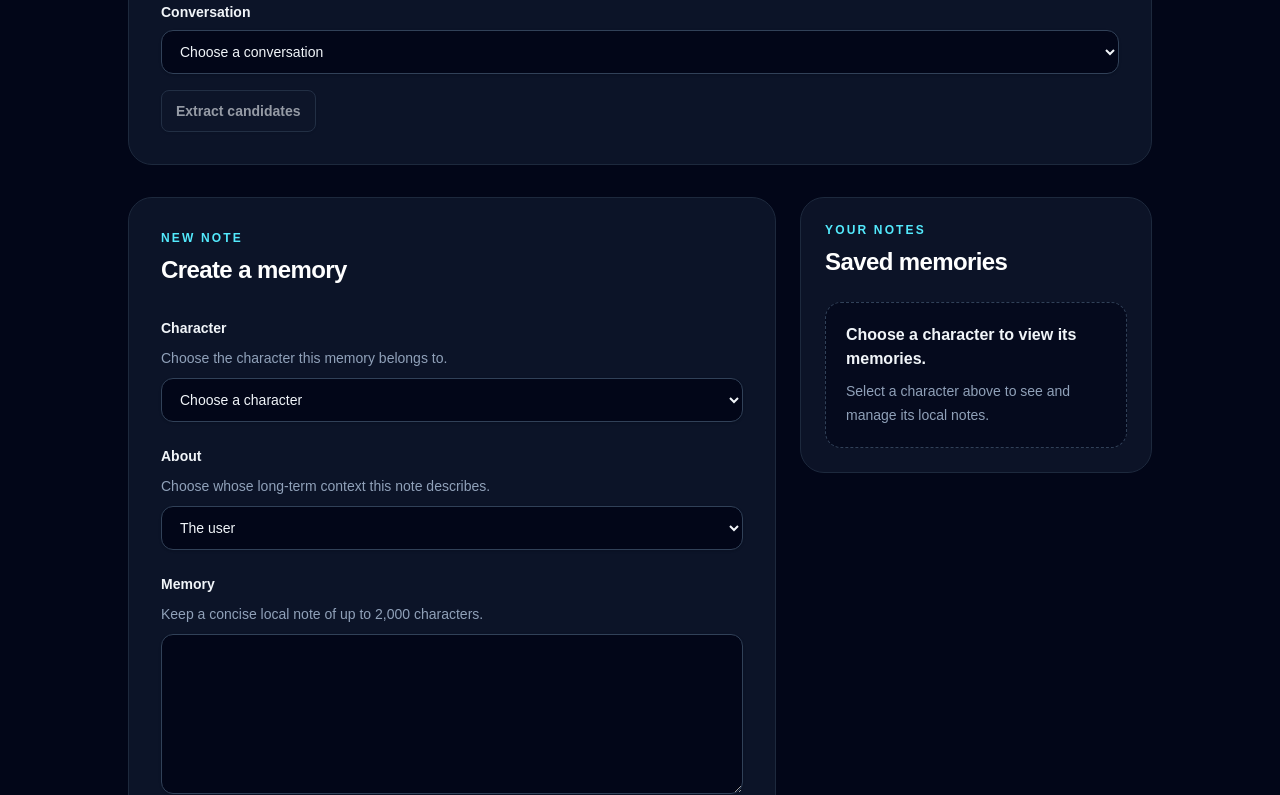
MemoryManagementScreen › does not persist extracted candidates until the user explicitly selects and saves one
(page scrolled)
Check: the heading "Create a memory" is shown, box [161,254,347,286]
Select "Astra" in the dropdown labelled "Character" at (452, 400), box [161,378,743,422]
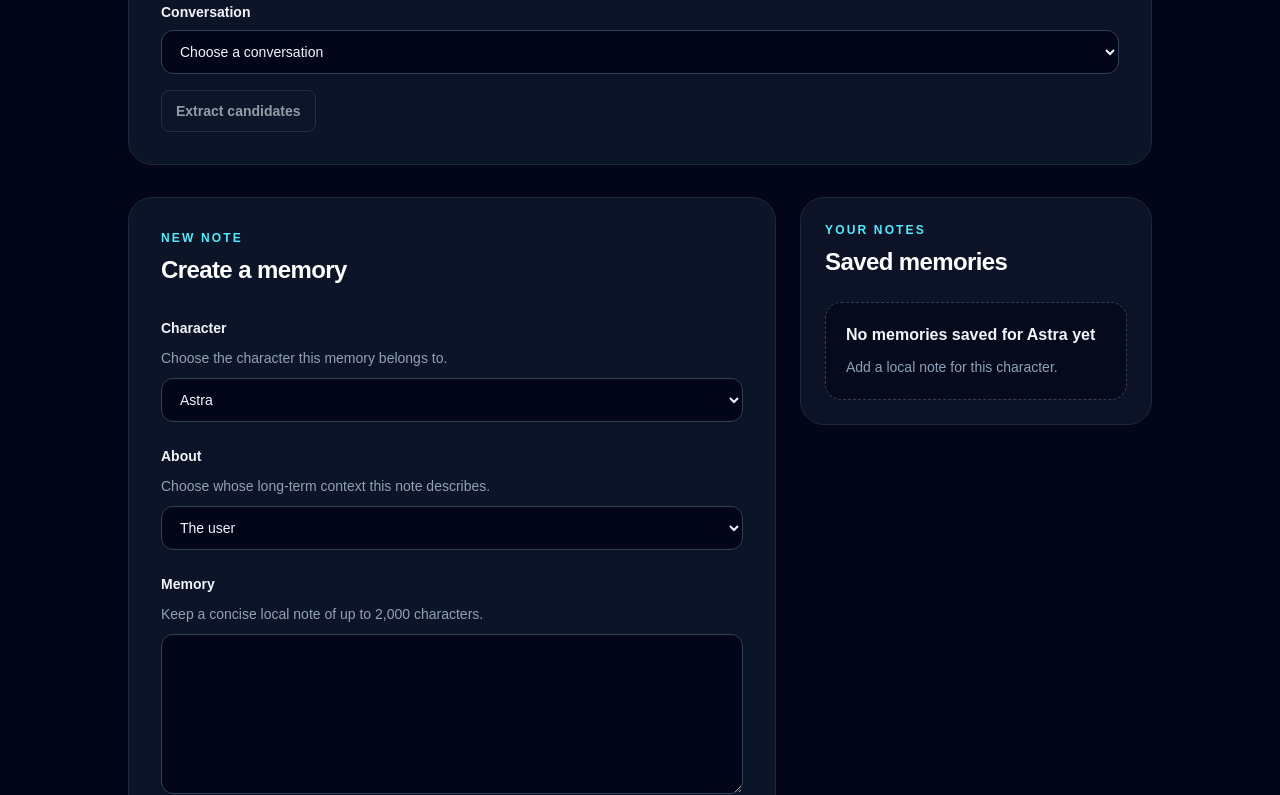
Select "Conversation updated 8/28/2026, 12:00:00 PM" in the dropdown labelled "Conversation" at (640, 52), box [161,30,1119,74]
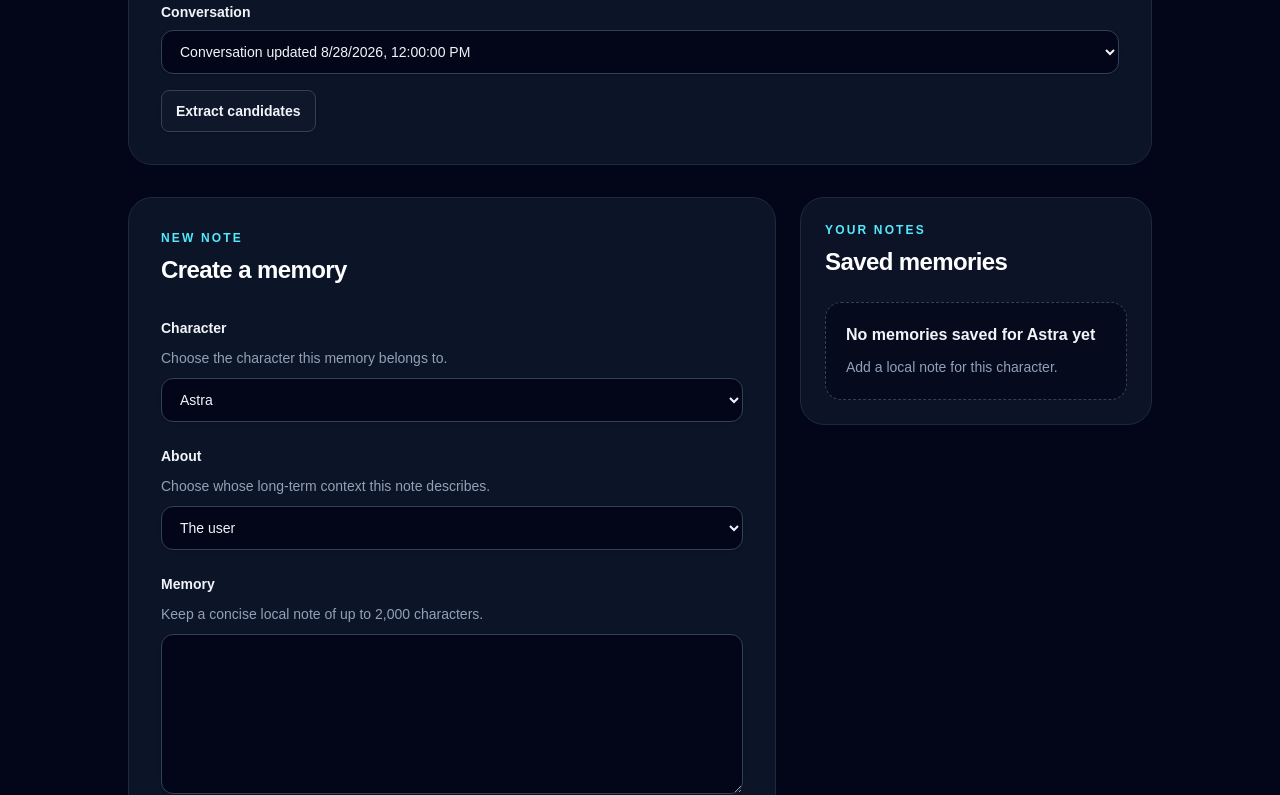
Click the button "Extract candidates".
click(238, 111)  # box [161,90,316,132]
(page scrolled)
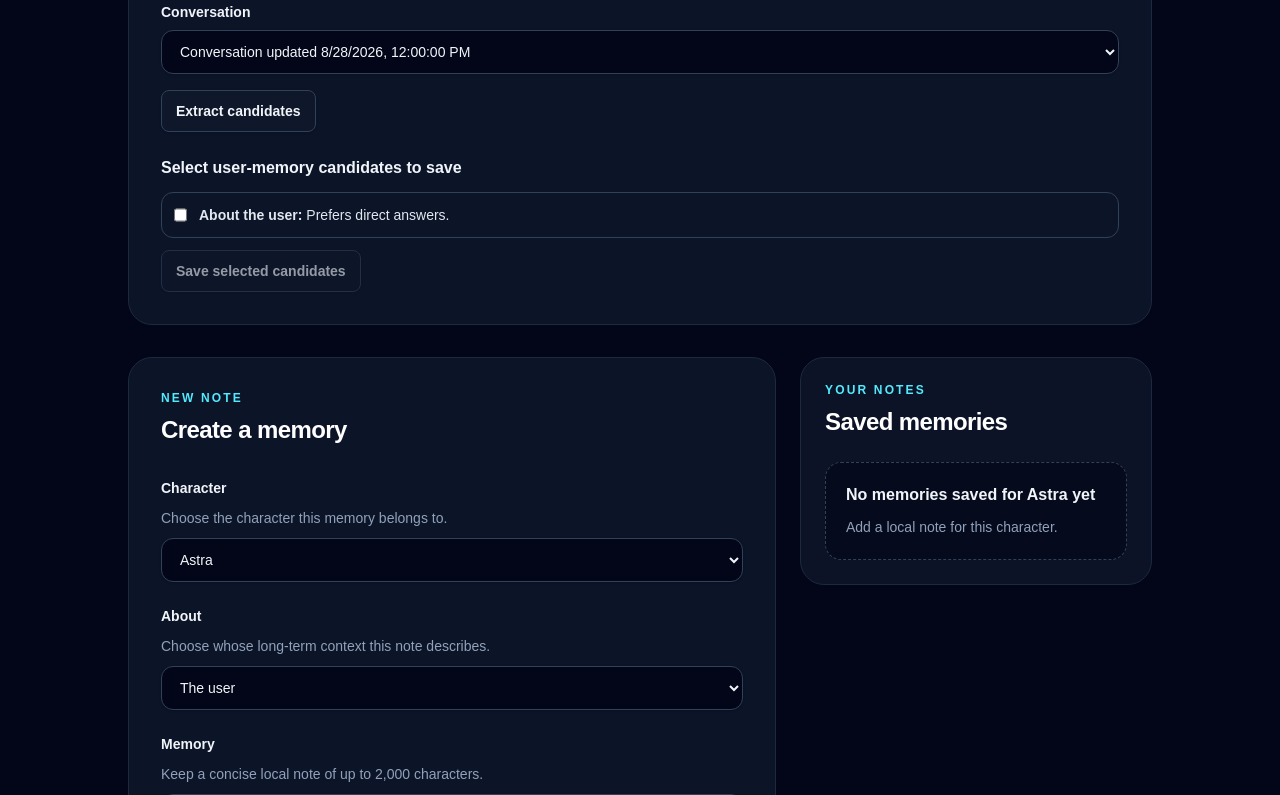
Check: the text "No memories saved for Astra yet" is shown, box [846,483,1106,507]
Check: the element named "Memory candidates for review" shows "Prefers direct answers.", box [306,207,450,223]
Click the checkbox named "Select memory candidate 1".
click(180, 215)  # box [174,205,187,225]
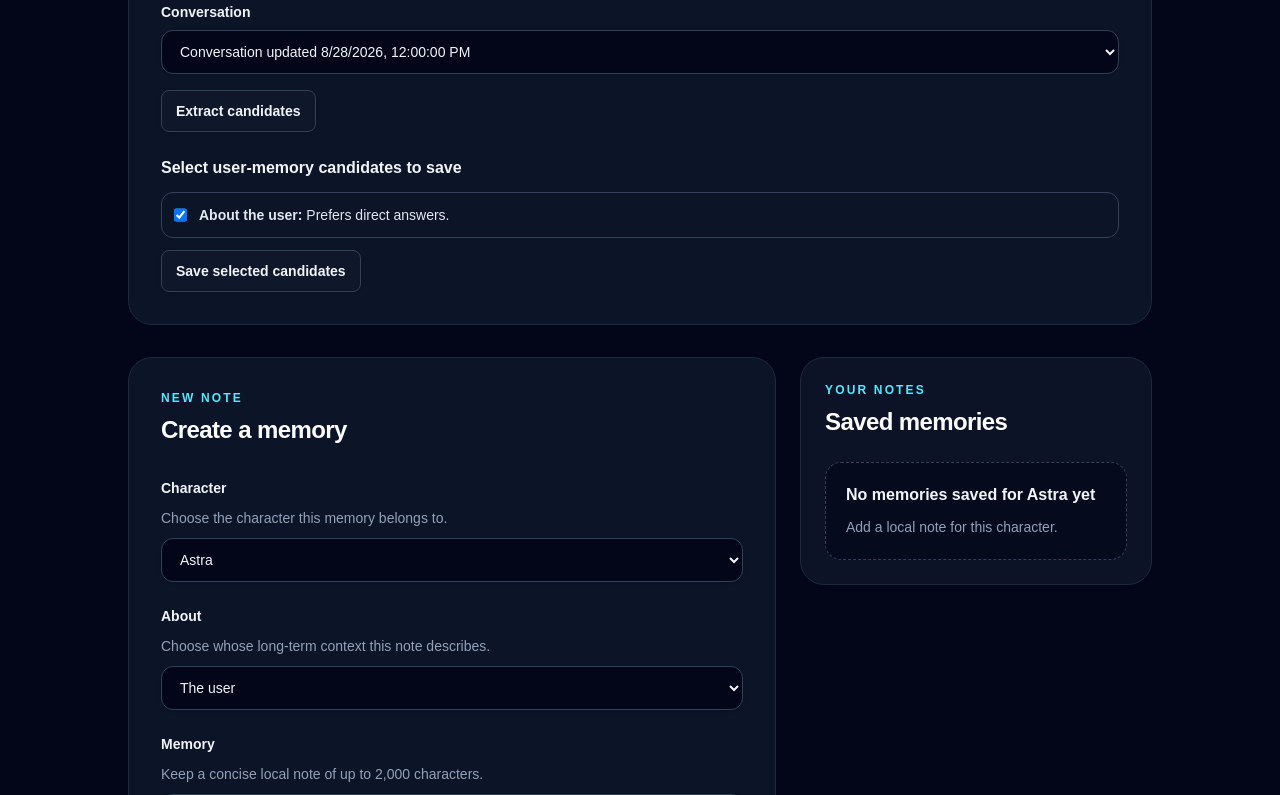
Click the button "Save selected candidates".
click(261, 271)  # box [161,250,361,292]
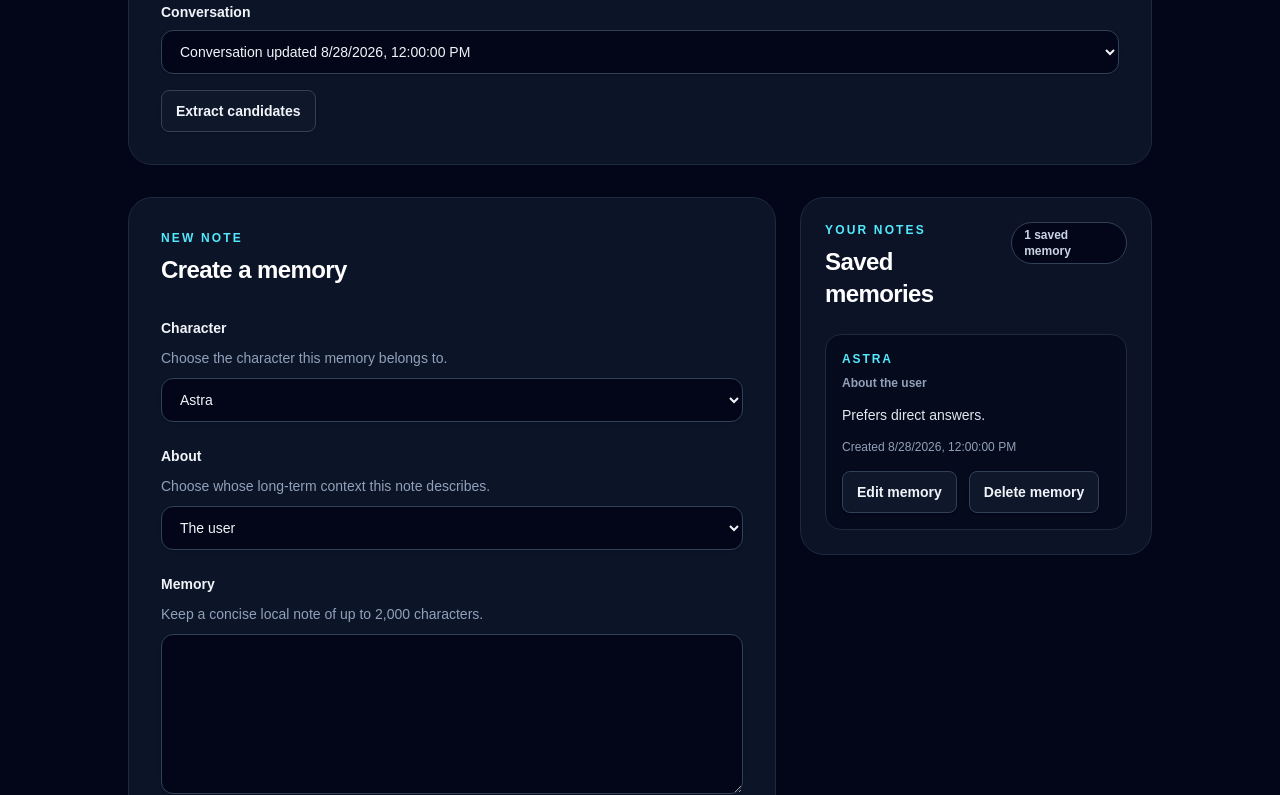
Check: the list named "Saved memories list" shows "Prefers direct answers.", box [842,407,985,423]
